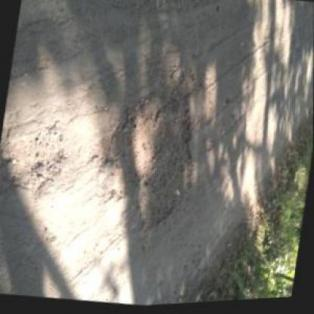Hueco: (83, 62, 206, 241), (0, 116, 69, 200)
